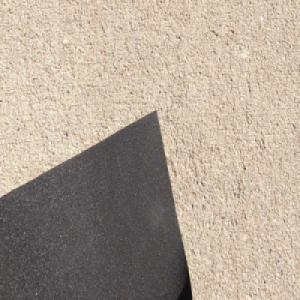PaintChip: (0, 101, 193, 300)
